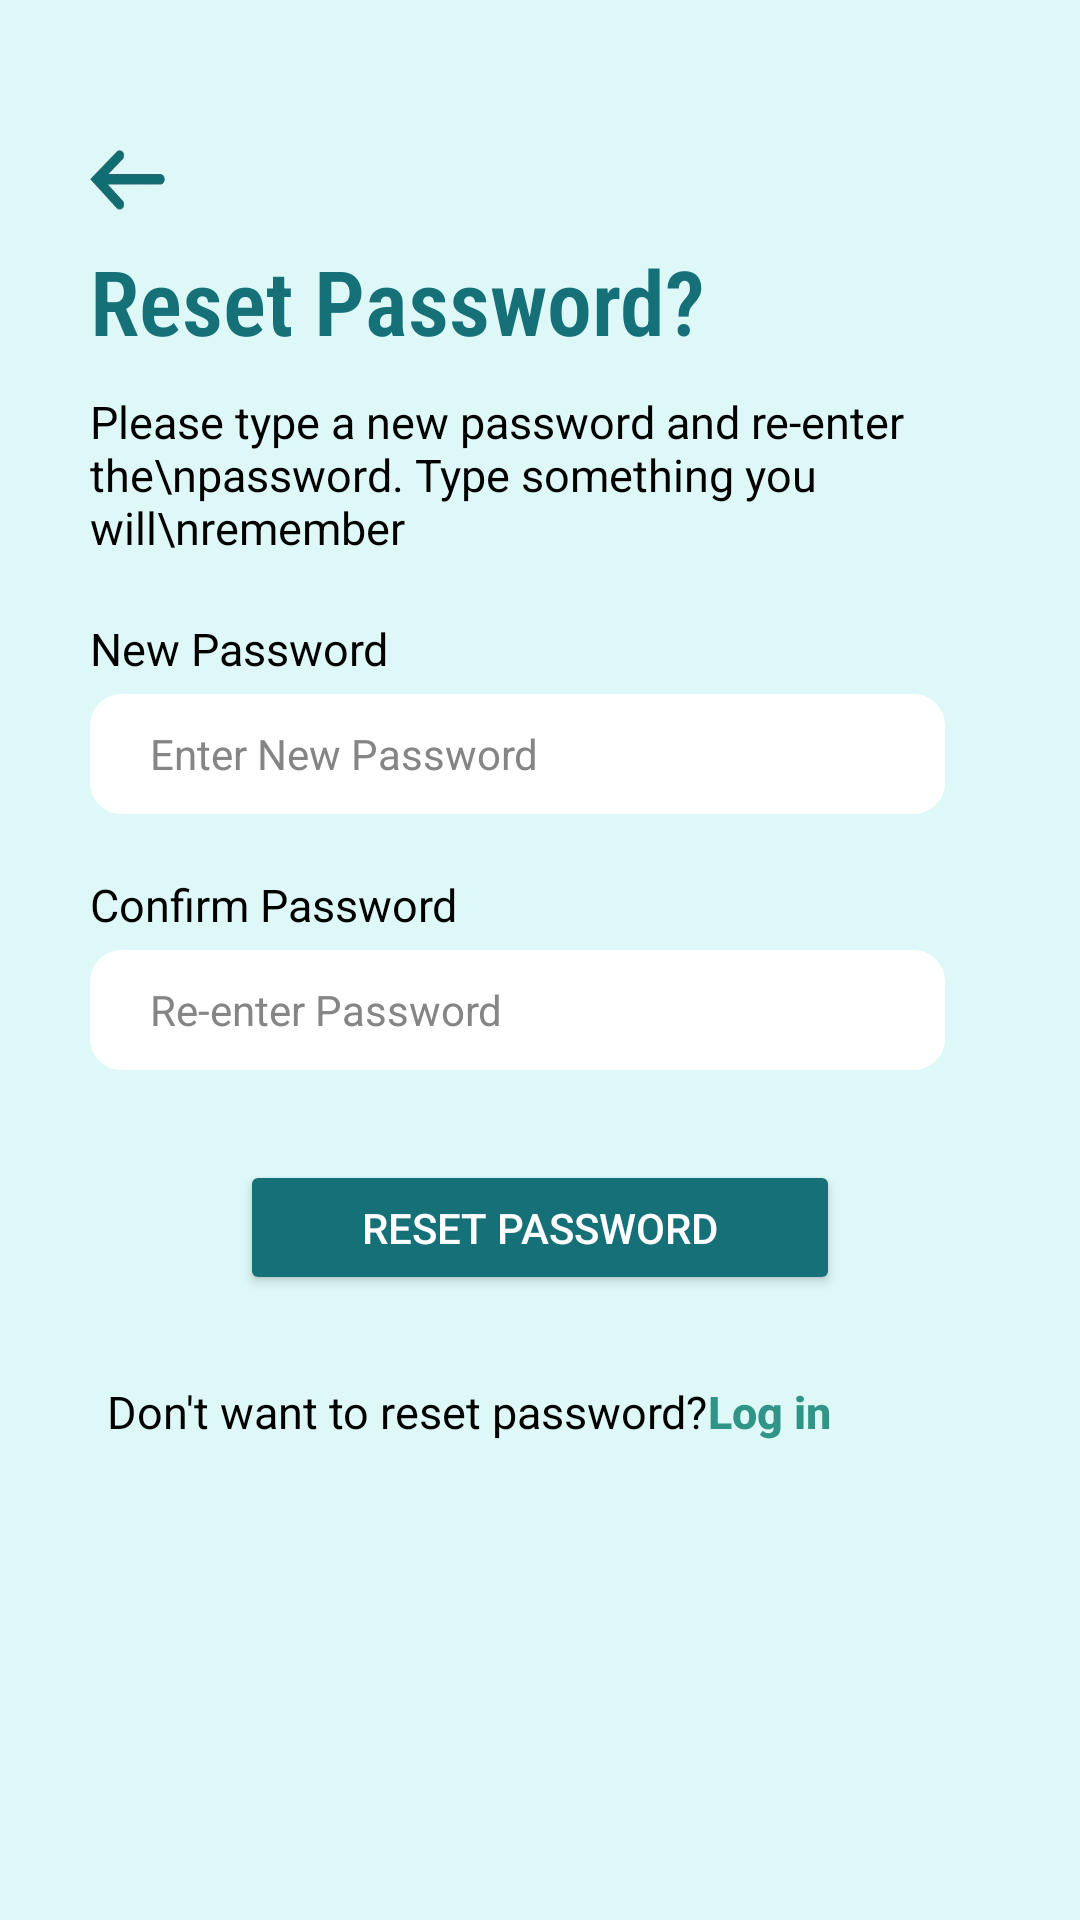

Screen size 1080 × 1920. Icon name, then its center in pixels as [x,y]:
back arrow: [127,180]
